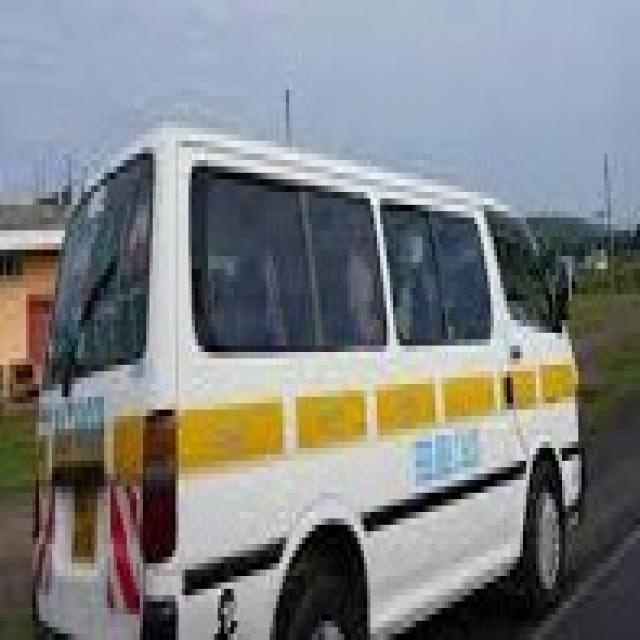matatu: (20, 77, 601, 640)
